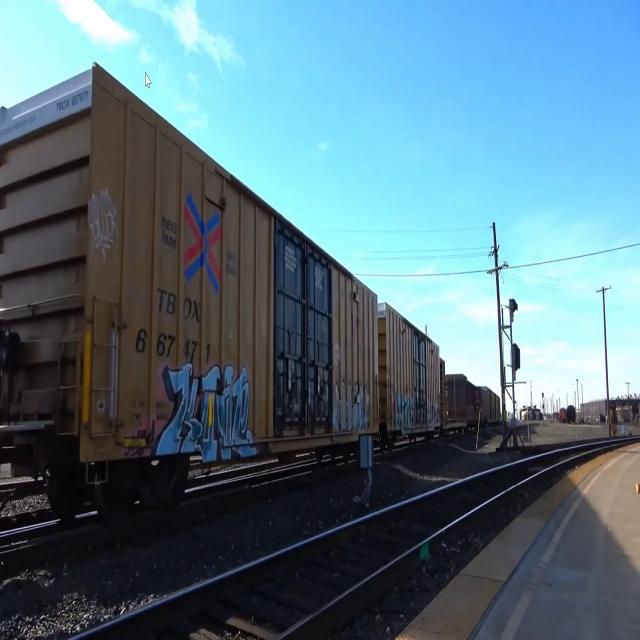boxcar: (0, 53, 382, 525), (380, 296, 442, 453)
flatcar_bulkhead: (440, 356, 468, 439)
